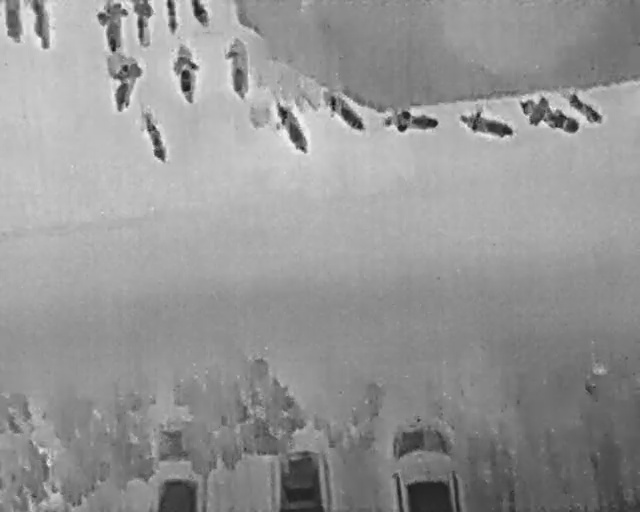Bicycle: (511, 86, 586, 146), (314, 84, 373, 140), (266, 93, 315, 160), (98, 52, 147, 115), (453, 102, 520, 147), (133, 105, 174, 167), (169, 38, 205, 107), (558, 83, 608, 130), (221, 35, 251, 102), (95, 0, 129, 54), (380, 105, 441, 135), (130, 0, 156, 48), (30, 0, 52, 51), (3, 0, 24, 44), (162, 0, 182, 38), (188, 0, 212, 29)
Car: (388, 415, 464, 510), (269, 426, 334, 510), (147, 429, 212, 510)
